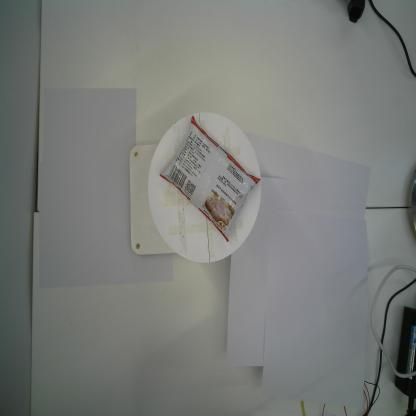Seasoner: (157, 112, 263, 246)
